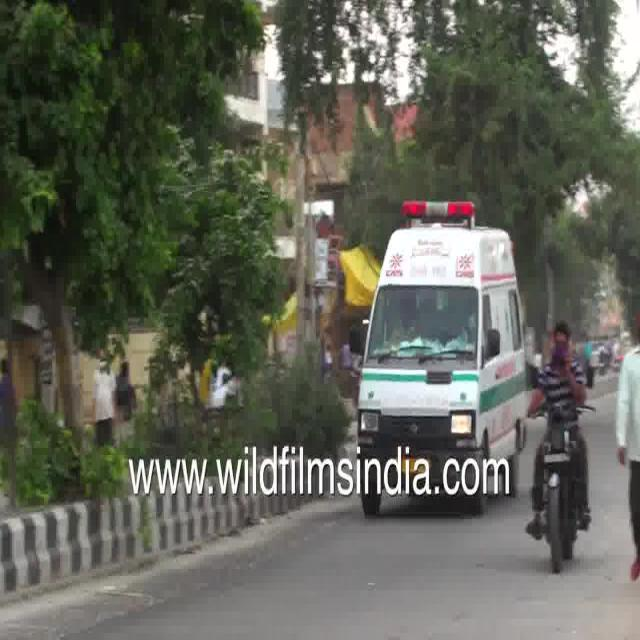ambulance: (348, 186, 545, 450)
